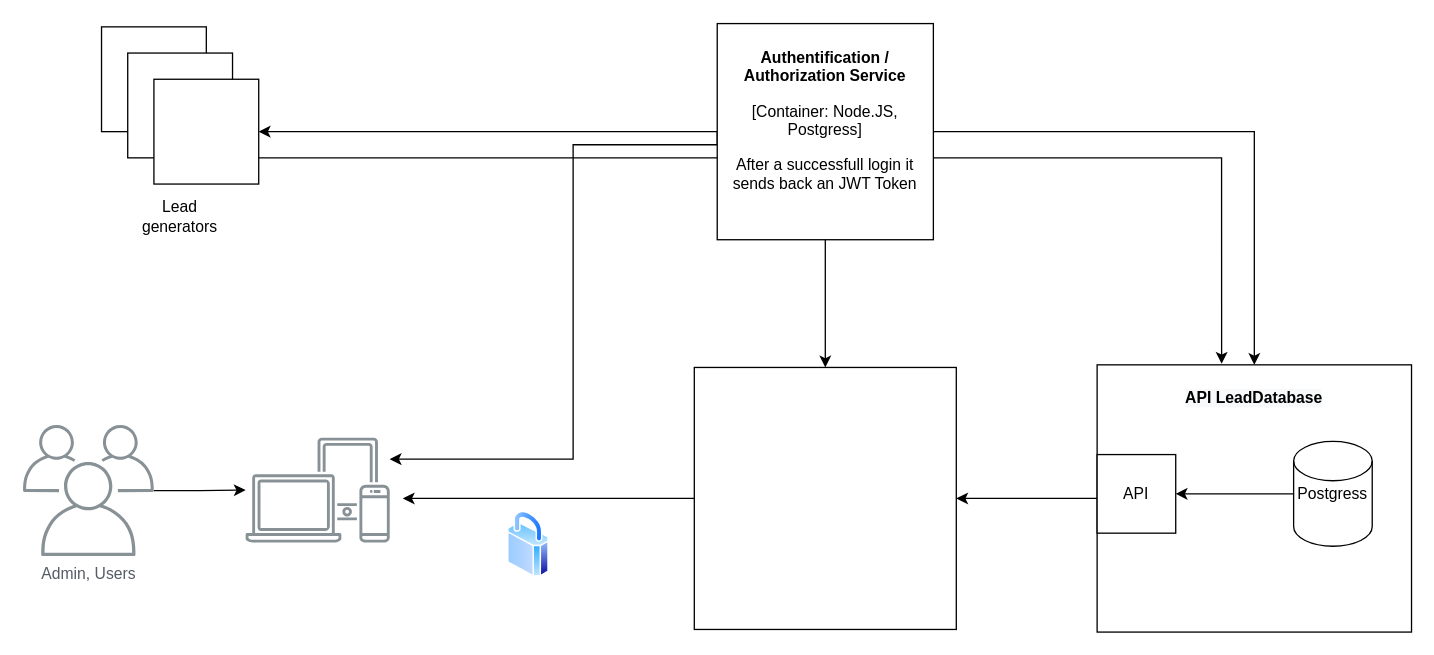
The diagram is 1434 pixels wide and 655 high, and some of its shapes have lost their labels. Each missing label, with the centre of its shape:
"API LeadServer [Container: NodeJs]" goes at pixel 824 497.
"Responsive UI (desktop, mobile)" goes at pixel 317 489.
